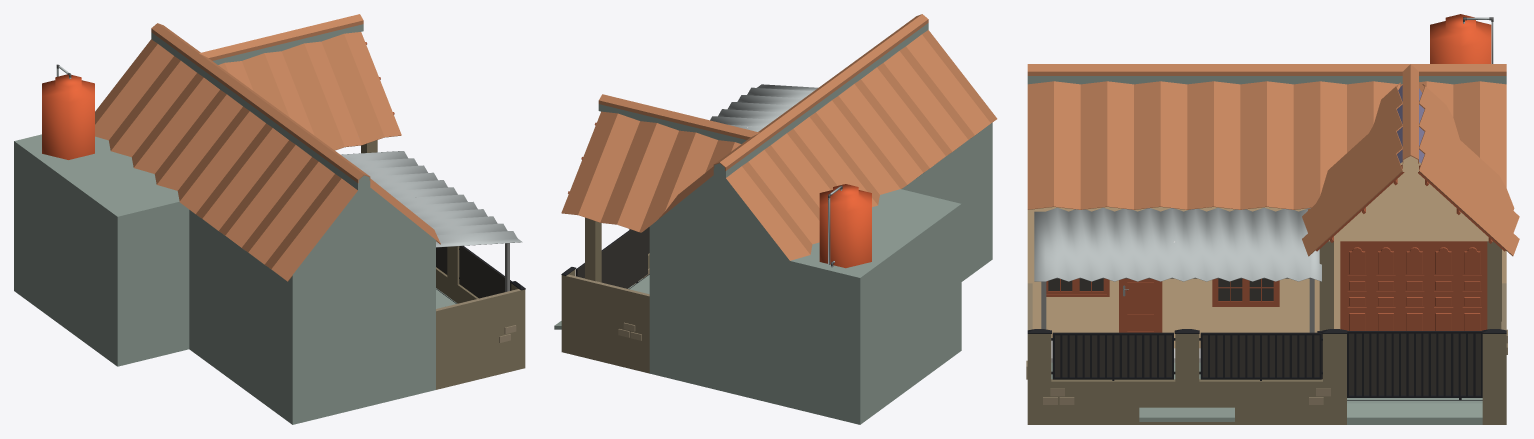
File: House_Type_1_2.fbx
The picture shows the model from 3 angles, left to right: view 1: azimuth 30°, elevation 25°; view 2: azimuth 150°, elevation 25°; view 3: azimuth 270°, elevation 25°; orthographic projection. The views are drawn at different scales.
Parts seen in each view (by area): view 1: House_Type_1_2_LOD0; view 2: House_Type_1_2_LOD0; view 3: House_Type_1_2_LOD0.
Part boxes in pixels (left/top/right/bottom): House_Type_1_2_LOD0: left=14, top=14, right=525, bottom=424; House_Type_1_2_LOD0: left=554, top=14, right=997, bottom=424; House_Type_1_2_LOD0: left=1026, top=14, right=1519, bottom=424.
Size of what is drawn, in the model's own units: 900 by 622 by 1030.
